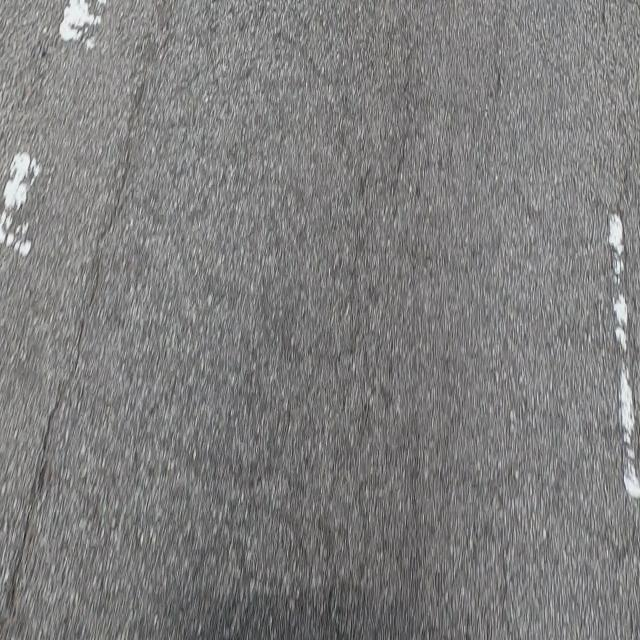Retak-Memanjang: (8, 82, 148, 619)
